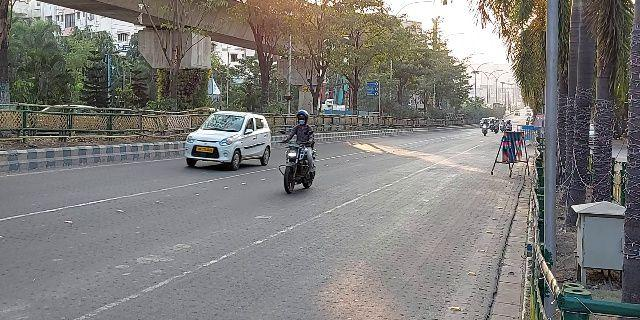Car: (182, 106, 274, 174)
Motorbike: (280, 110, 318, 196), (479, 116, 490, 138)
